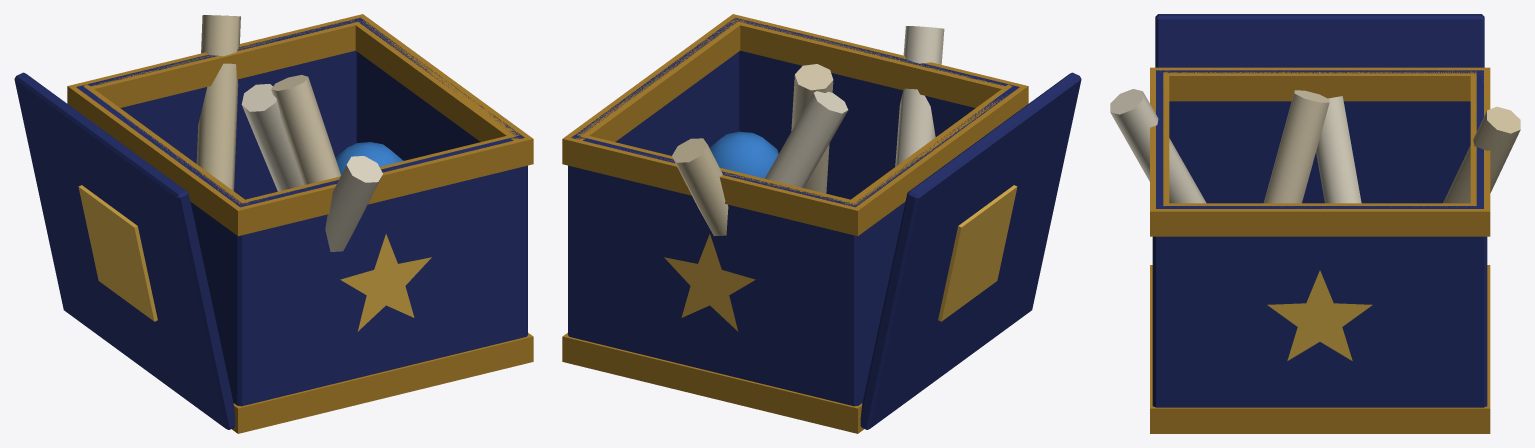
Rendered from observatory-hide.glb.
3 views of the same model, side by side, from view 1: azimuth 30°, elevation 25°; view 2: azimuth 150°, elevation 25°; view 3: azimuth 270°, elevation 25° (orthographic).
Visible parts, largest first — view 1: observatory-hide; view 2: observatory-hide; view 3: observatory-hide.
Part boxes in pixels (left/top/right/bottom): observatory-hide: left=14, top=14, right=533, bottom=433; observatory-hide: left=562, top=14, right=1081, bottom=433; observatory-hide: left=1110, top=14, right=1520, bottom=433.
Size of the model in its own units: 1.46 by 1.05 by 1.47.
